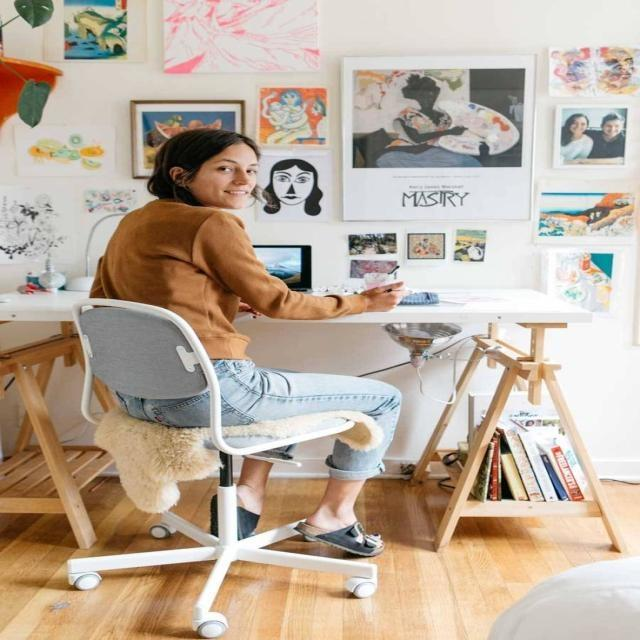obstacle: (0, 286, 625, 554), (66, 296, 384, 638)
person: (86, 127, 412, 557)
